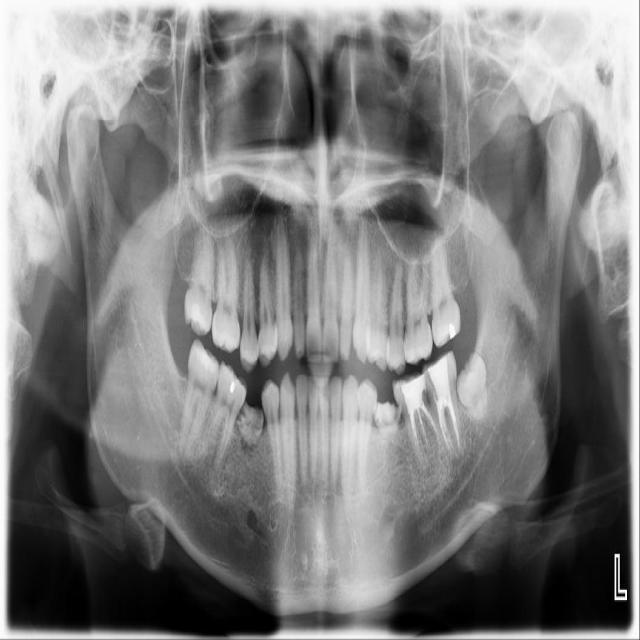52: (202, 356, 261, 420), (421, 297, 476, 352), (387, 367, 437, 418), (417, 350, 464, 402)
73: (399, 402, 453, 474), (427, 386, 465, 464)
BioHorizons Implant: (427, 230, 462, 349)
Biomet 3i Implant: (456, 351, 489, 422)
Blue Sky Bio Implant: (420, 349, 464, 464)
Caries: (184, 214, 214, 337)
Implant: (180, 337, 223, 451)
